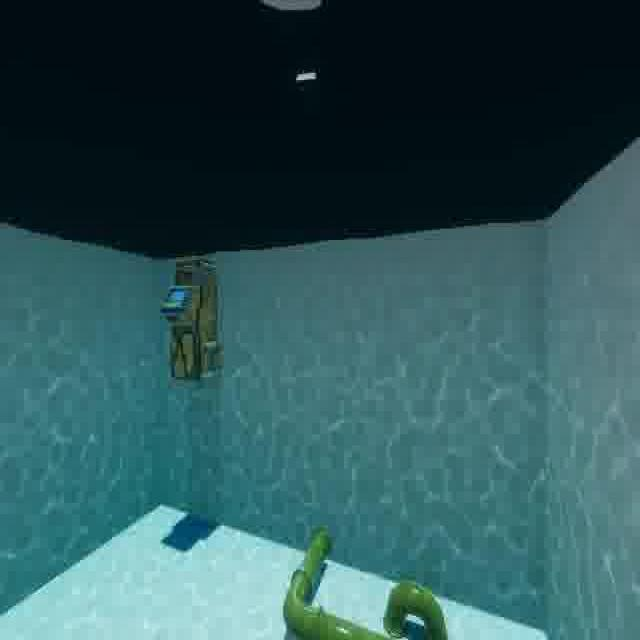Control Panel: (154, 253, 226, 391)
Pipe: (272, 516, 452, 640)
